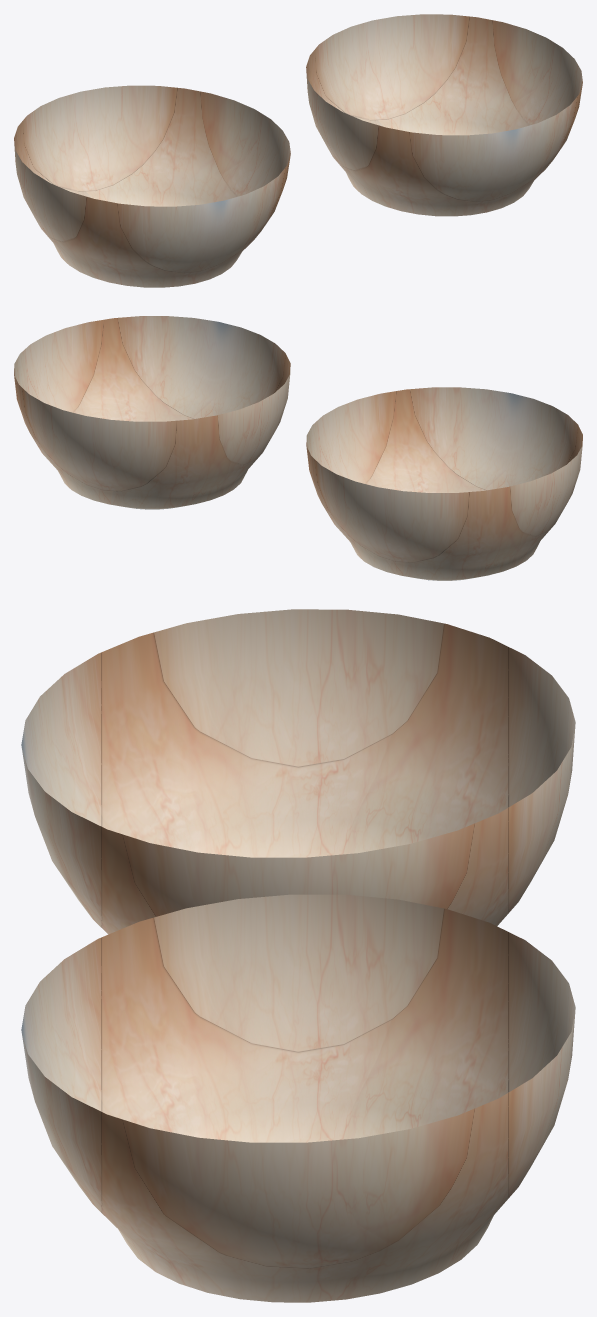
Rendered from eyes.glb.
3 renders of one model, top to bottom at view 1: azimuth 30°, elevation 25°; view 2: azimuth 150°, elevation 25°; view 3: azimuth 270°, elevation 25°, orthographic. The views are drawn at different scales.
Visible parts, largest first — view 1: Eyes, Eyes.001; view 2: Eyes.001, Eyes; view 3: Eyes, Eyes.001.
Boxes of the visible parts, left/top/right/bottom form: Eyes: left=306, top=14, right=582, bottom=216; Eyes.001: left=14, top=85, right=290, bottom=287; Eyes.001: left=306, top=387, right=582, bottom=580; Eyes: left=14, top=316, right=290, bottom=509; Eyes: left=21, top=894, right=575, bottom=1302; Eyes.001: left=21, top=609, right=575, bottom=934.
Bounding box in the file's own units: 0.2288 × 0.054 × 0.1032.
1 material, 1 textured.
